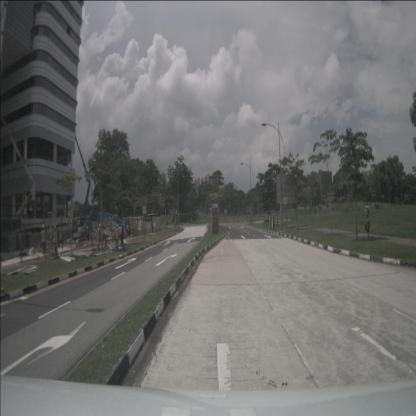human-pedestrian-adult: (365, 210, 370, 237), (151, 221, 154, 232)
movable_object-trafficcone: (37, 241, 41, 253)
vehicle-truck: (364, 206, 382, 214)
